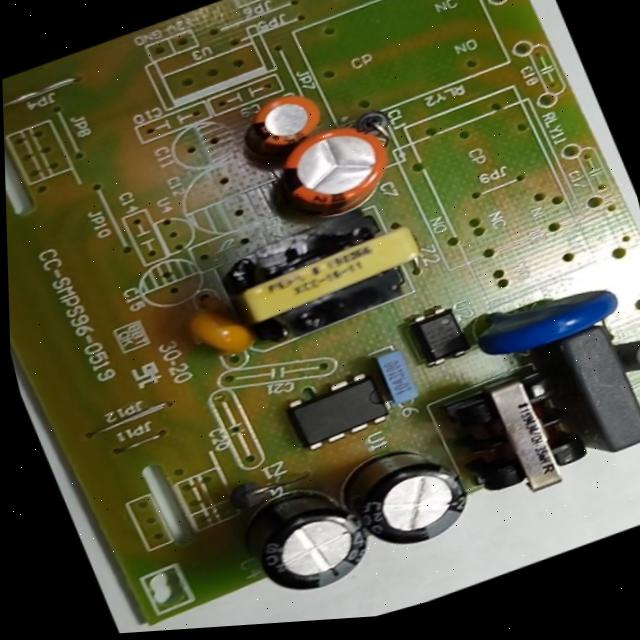Cap1: (259, 107, 411, 235)
Cap2: (225, 77, 337, 170)
Cap3: (327, 421, 489, 569)
Cap4: (219, 465, 385, 615)
MOSFET: (275, 362, 398, 460)
Mov: (455, 262, 633, 373)
Resistor: (612, 324, 640, 383)
Transformer: (204, 185, 443, 360), (426, 348, 608, 523)
